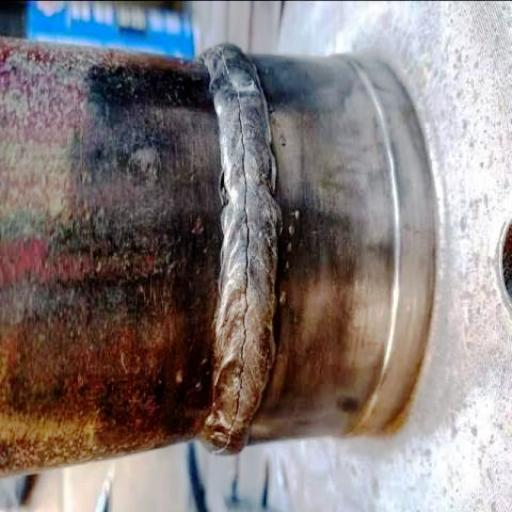crack: (230, 82, 258, 412)
